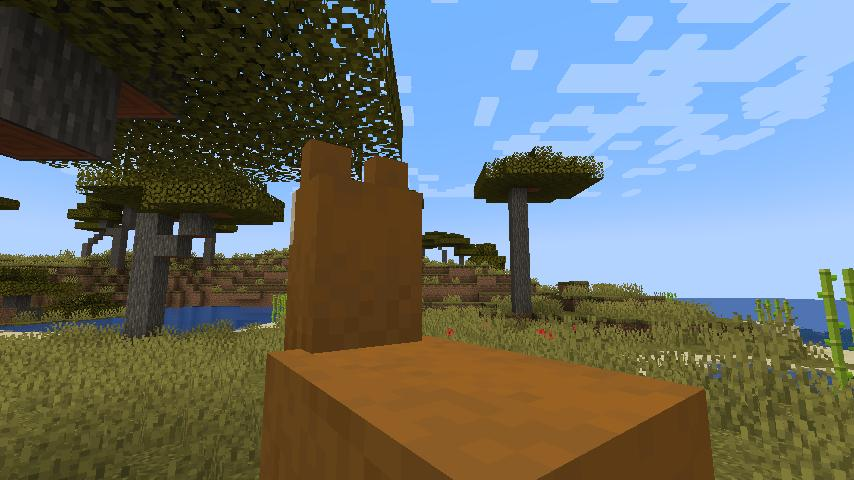llama: (258, 138, 722, 480)
